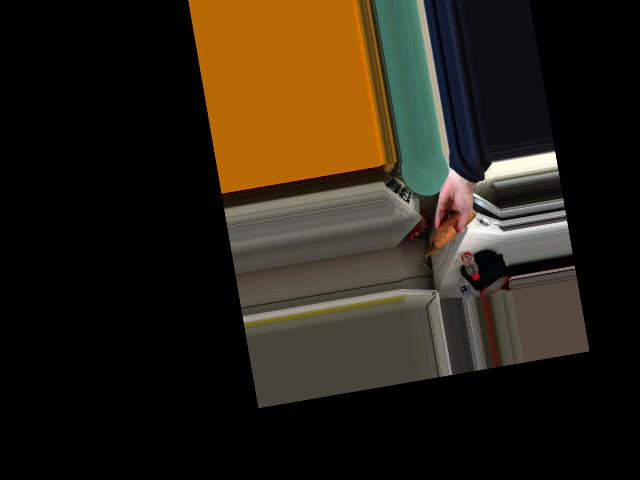sweet_potato: (437, 202, 478, 239)
